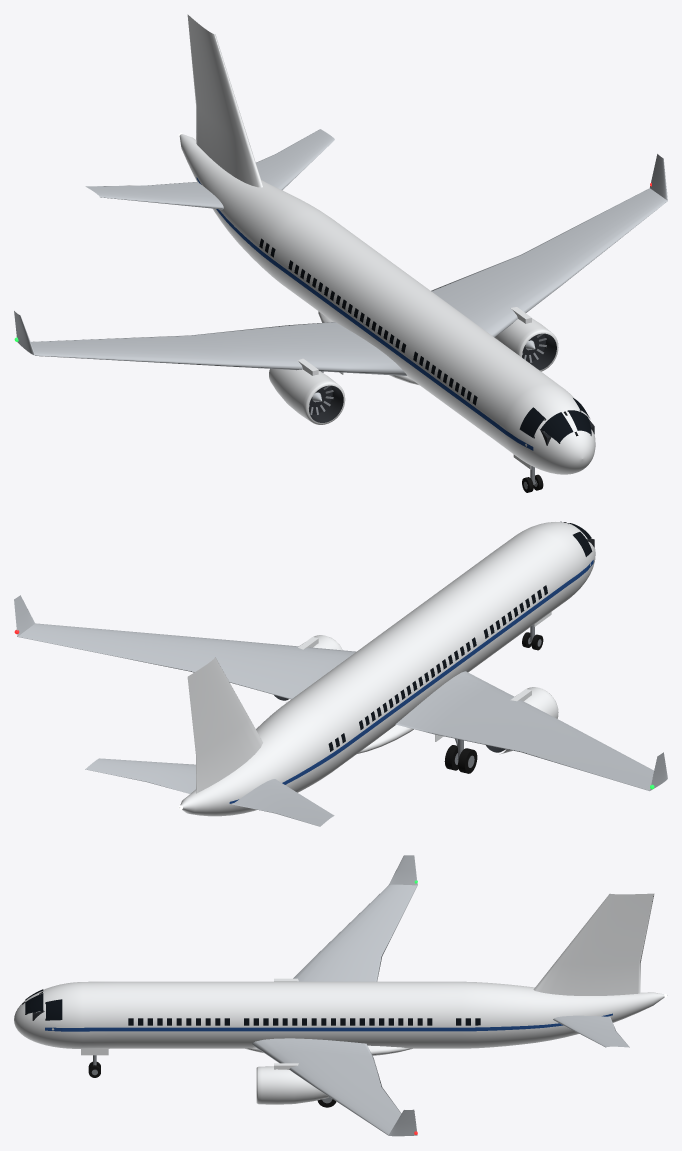
The model's file is airliner.glb.
The picture shows the model from 3 angles, top to bottom: view 1: azimuth 30°, elevation 25°; view 2: azimuth 150°, elevation 25°; view 3: azimuth 270°, elevation 25°; orthographic projection. The views are drawn at different scales.
Visible parts, largest first — view 1: airframe_fuselage_white, airframe_wing_gray, airframe_window_dark, airframe_metal_dark, airframe_stripe_blue; view 2: airframe_fuselage_white, airframe_wing_gray, airframe_stripe_blue, airframe_window_dark, airframe_tire_rubber; view 3: airframe_fuselage_white, airframe_wing_gray, airframe_stripe_blue, airframe_window_dark.
Boxes of the visible parts, box(x1,y1,x2,y2) form: airframe_fuselage_white: box(179, 14, 595, 474); airframe_wing_gray: box(14, 129, 667, 402); airframe_window_dark: box(259, 238, 591, 442); airframe_metal_dark: box(309, 333, 556, 422); airframe_stripe_blue: box(196, 177, 533, 450); airframe_fuselage_white: box(179, 522, 595, 816); airframe_wing_gray: box(14, 595, 667, 826); airframe_stripe_blue: box(229, 560, 593, 803); airframe_window_dark: box(328, 523, 592, 751); airframe_tire_rubber: box(444, 632, 543, 773); airframe_fuselage_white: box(14, 893, 667, 1104); airframe_wing_gray: box(252, 855, 629, 1136); airframe_stripe_blue: box(45, 1013, 612, 1031); airframe_window_dark: box(25, 989, 480, 1025).
Bounding box in the file's own units: 35.05 × 11.65 × 38.
